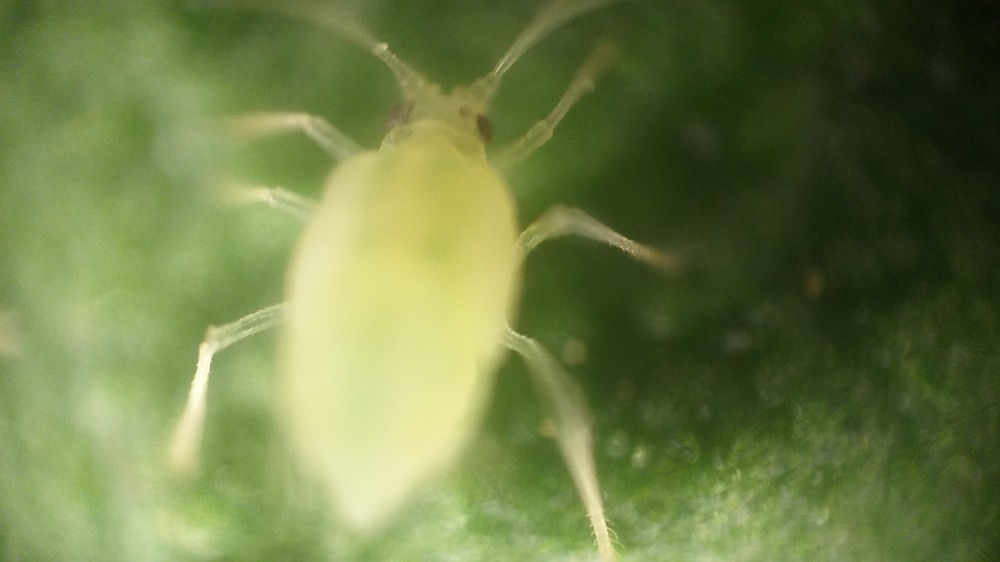Pulgon: (152, 19, 739, 550)
